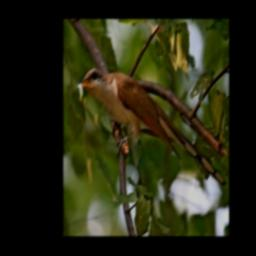Cuckoo: (73, 66, 227, 186)
